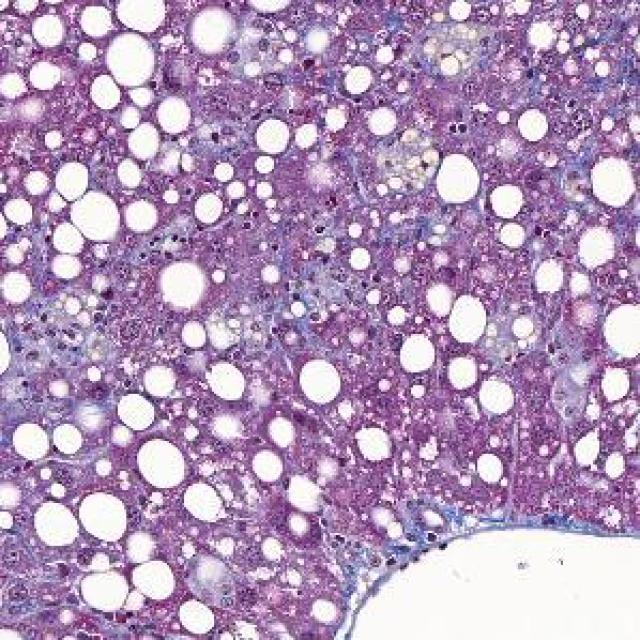fibrosis: (244, 212, 407, 327), (21, 314, 133, 406)
